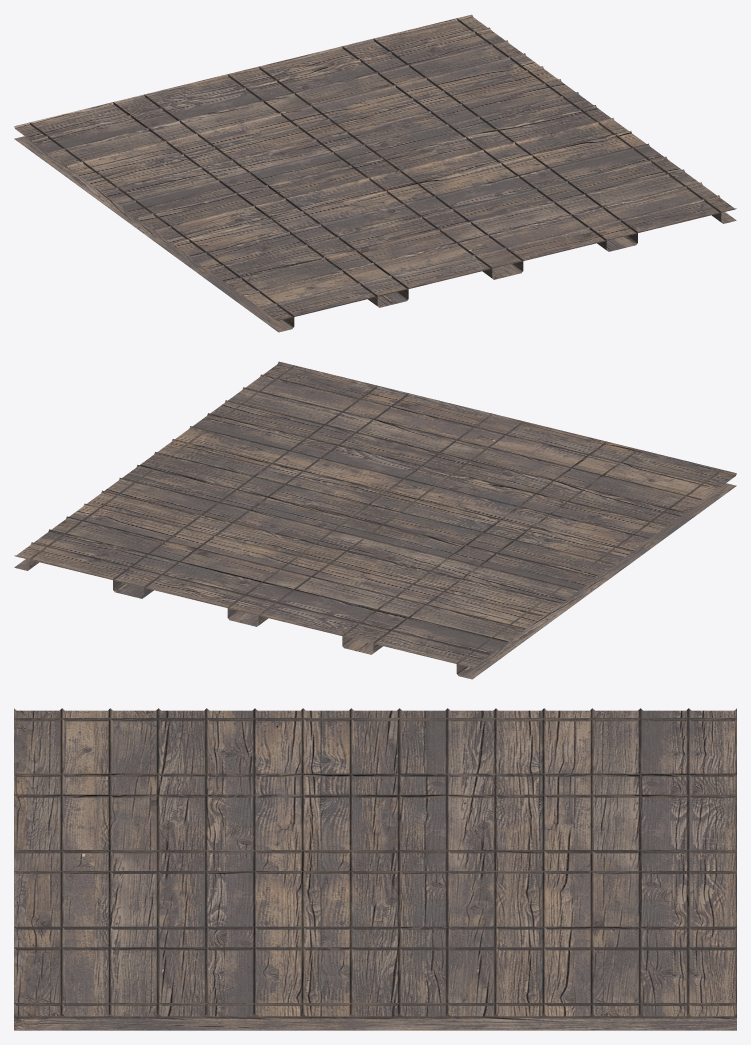
Rendered from IntCeiling01.FBX.
3 renders of one model, top to bottom at view 1: azimuth 30°, elevation 25°; view 2: azimuth 150°, elevation 25°; view 3: azimuth 270°, elevation 25°, orthographic. The views are drawn at different scales.
Visible parts, largest first — view 1: IntCeiling01; view 2: IntCeiling01; view 3: IntCeiling01.
Boxes of the visible parts, x1=… form: IntCeiling01: x1=14, y1=14, x2=736, y2=332; IntCeiling01: x1=14, y1=361, x2=736, y2=679; IntCeiling01: x1=14, y1=708, x2=736, y2=1030.
Size of the model in its own units: 98.43 by 98.43 by 2.63.
